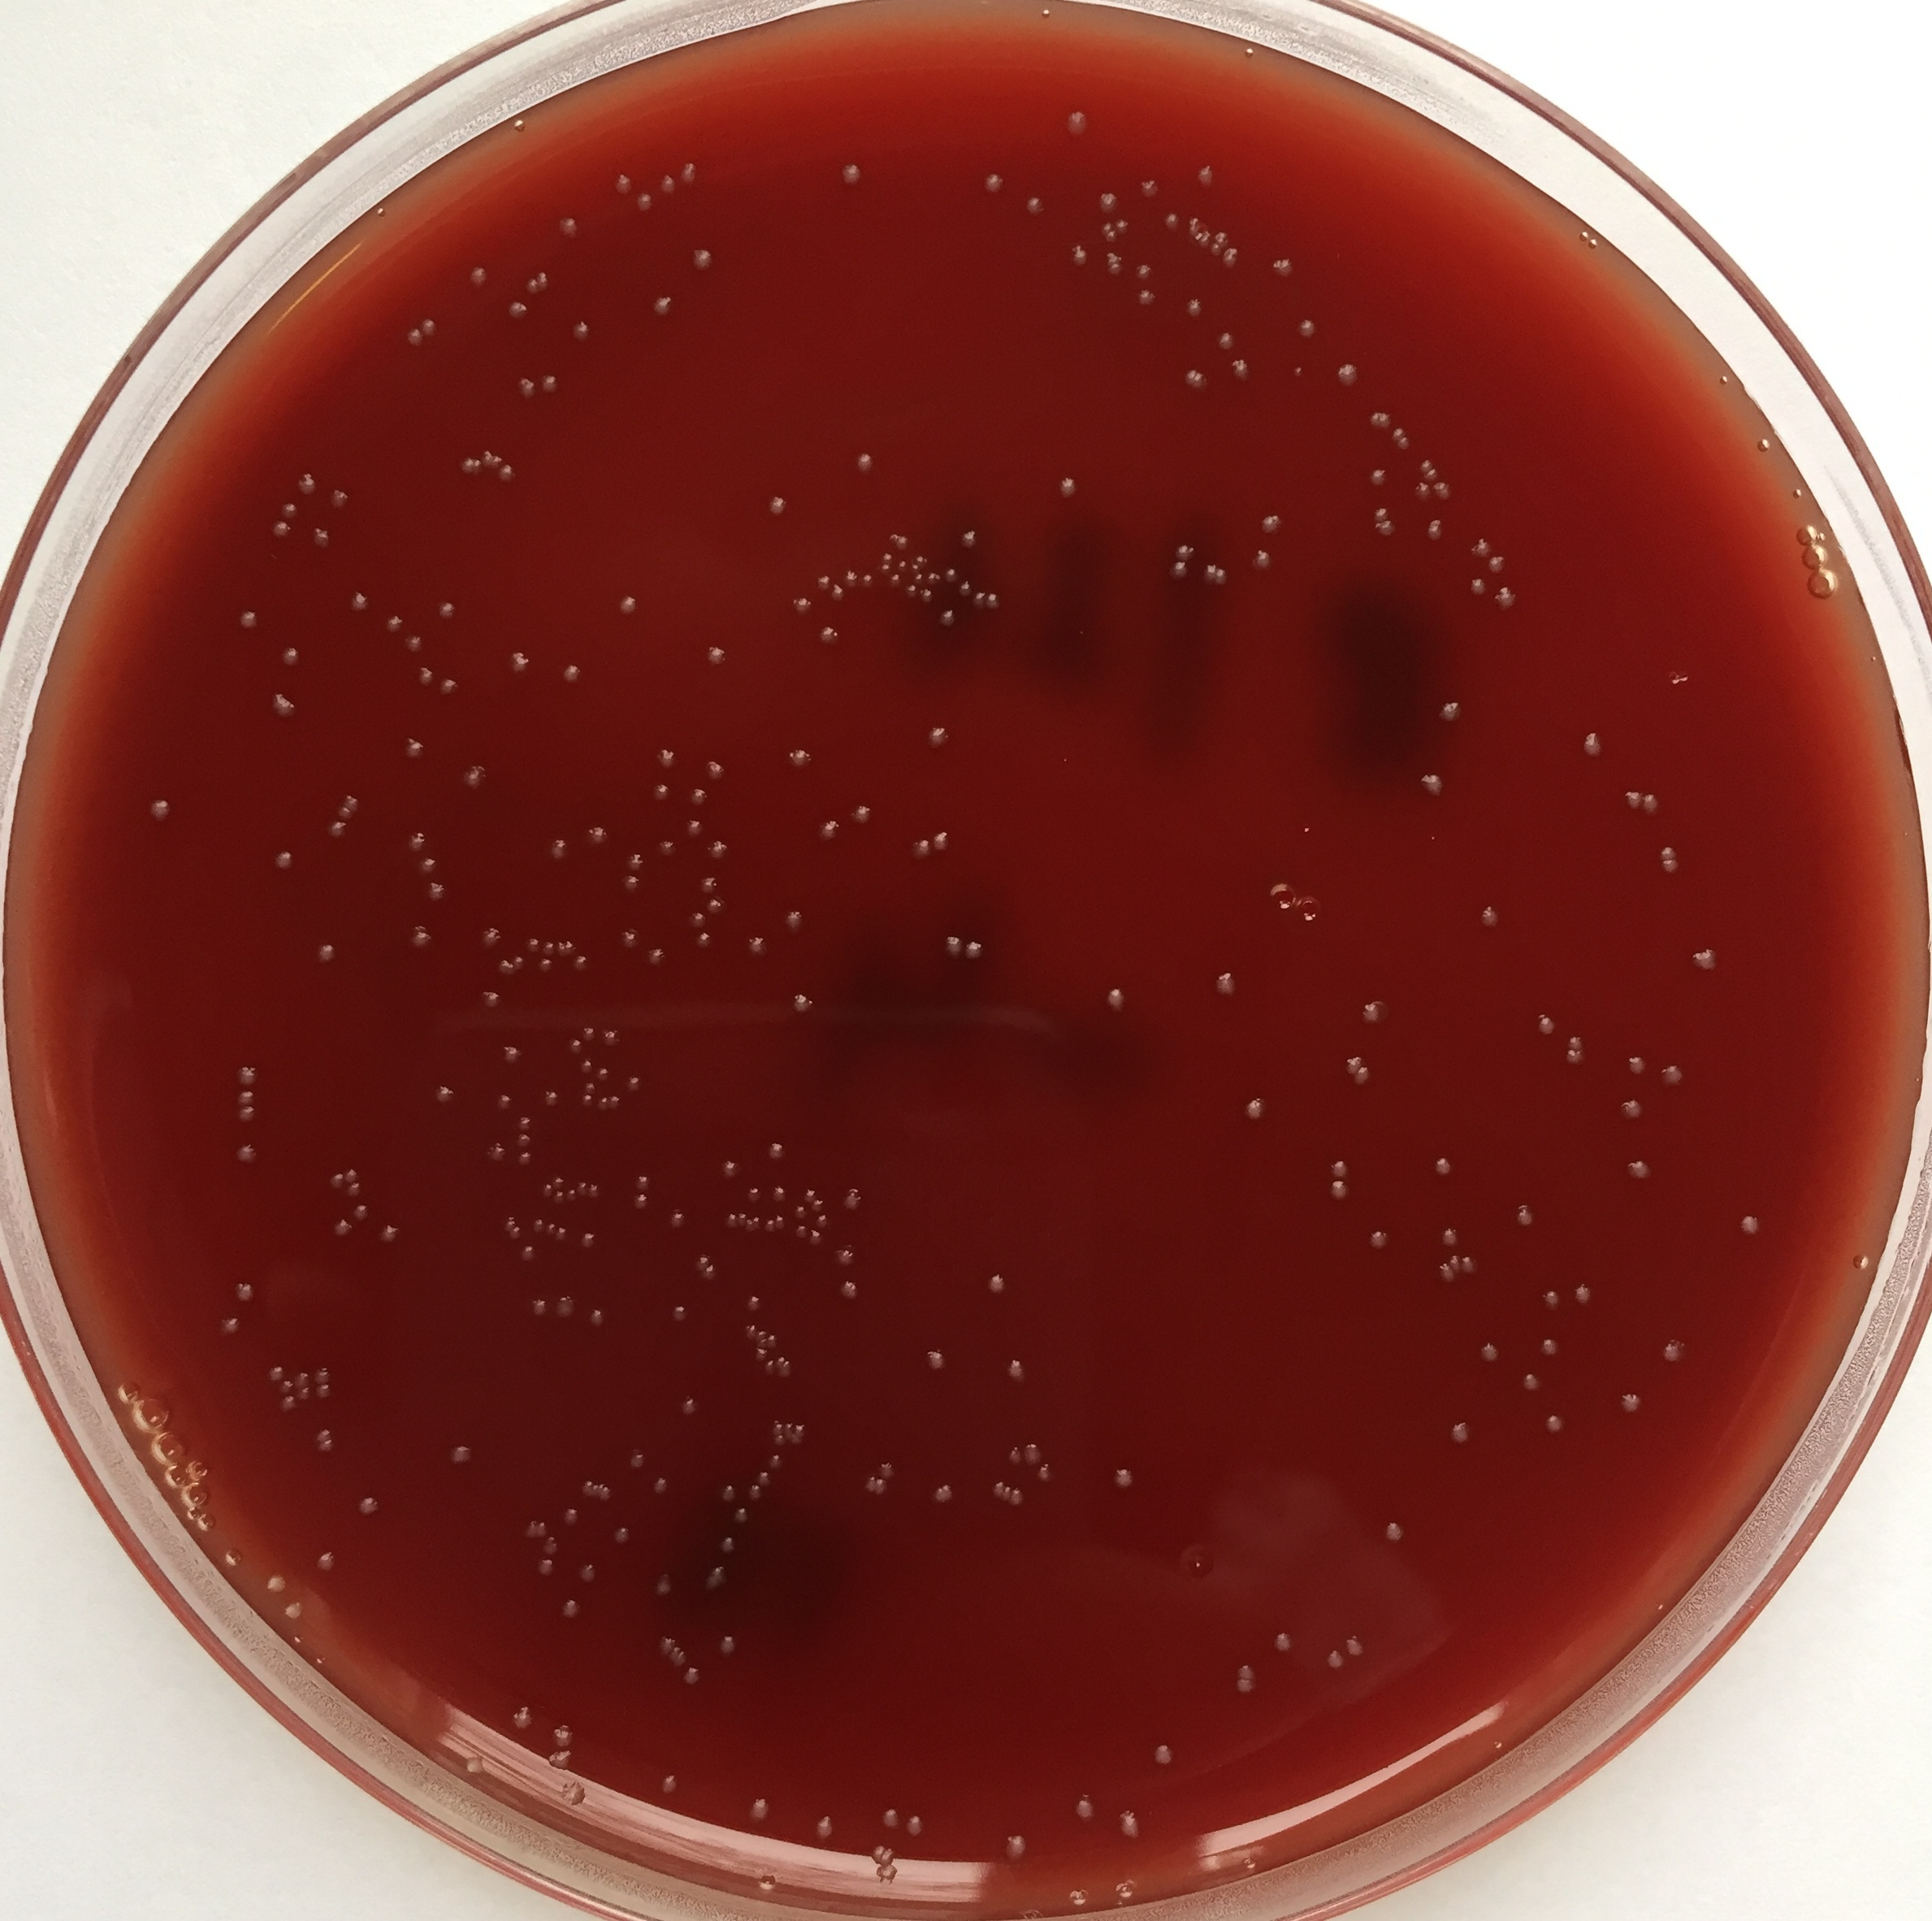sp23: (825, 144, 871, 201), (1052, 90, 1096, 146), (1006, 181, 1056, 229), (975, 1258, 1012, 1311), (845, 435, 887, 480), (1431, 688, 1469, 737), (1047, 459, 1086, 508), (922, 716, 961, 765), (1686, 939, 1726, 983), (139, 783, 178, 829), (635, 287, 676, 329), (505, 644, 542, 688), (1240, 1080, 1274, 1128), (1471, 894, 1513, 929), (1658, 1332, 1694, 1370), (778, 739, 815, 778), (968, 160, 1003, 201), (1570, 728, 1614, 760), (475, 982, 512, 1019), (579, 813, 618, 848), (765, 480, 797, 522), (405, 920, 440, 957), (1357, 992, 1390, 1031), (431, 591, 465, 630), (461, 748, 489, 793), (1191, 151, 1223, 192), (262, 677, 292, 719), (614, 588, 646, 626), (473, 915, 505, 953), (1543, 1409, 1571, 1451), (1116, 1801, 1144, 1844), (690, 246, 725, 280), (1101, 1458, 1135, 1494), (1624, 1149, 1656, 1186), (278, 633, 310, 670), (915, 1346, 952, 1377), (938, 922, 964, 966), (419, 876, 457, 906), (700, 632, 728, 672), (313, 938, 347, 971), (1411, 767, 1446, 799), (1096, 978, 1128, 1013), (1418, 510, 1450, 545), (398, 737, 433, 769), (811, 1812, 843, 1847), (1357, 1221, 1395, 1249), (1490, 581, 1522, 614), (232, 603, 264, 637), (396, 818, 428, 851), (445, 1439, 477, 1472), (554, 1779, 588, 1810), (1443, 1409, 1471, 1446), (1267, 250, 1304, 278), (785, 990, 811, 1029), (998, 1831, 1036, 1858), (1255, 503, 1286, 535), (850, 795, 882, 827), (538, 362, 560, 410), (1425, 1145, 1459, 1175), (229, 1057, 262, 1087), (428, 1077, 456, 1112), (371, 1212, 398, 1249), (700, 1560, 727, 1597), (783, 899, 808, 938), (1659, 1057, 1689, 1089), (558, 1596, 589, 1625), (744, 1794, 774, 1826), (570, 318, 600, 350), (1212, 960, 1239, 996), (269, 843, 299, 873), (1381, 1516, 1411, 1546), (1737, 1205, 1765, 1237), (816, 814, 845, 846), (964, 927, 985, 969), (540, 830, 568, 862), (1070, 1793, 1098, 1824), (231, 1101, 264, 1128), (998, 1353, 1031, 1379), (554, 1289, 579, 1325), (1270, 1629, 1306, 1654), (1372, 501, 1395, 538), (1617, 1388, 1645, 1418), (419, 844, 447, 874), (461, 262, 489, 292), (1533, 1004, 1559, 1036), (231, 1281, 262, 1307), (579, 1476, 611, 1502), (545, 1750, 581, 1773), (1571, 1279, 1599, 1307), (669, 1302, 697, 1330), (1513, 1194, 1540, 1224), (815, 623, 845, 649), (561, 653, 588, 683), (313, 1548, 340, 1578), (679, 1391, 709, 1418), (649, 744, 679, 771), (1151, 1736, 1181, 1763), (1226, 354, 1253, 383), (1647, 858, 1687, 878), (229, 1142, 260, 1166), (313, 1425, 338, 1457), (357, 1486, 382, 1518), (507, 1694, 531, 1726), (660, 1766, 684, 1798), (702, 755, 734, 779), (514, 369, 535, 406), (1334, 359, 1365, 383), (1538, 1333, 1564, 1362), (213, 1311, 239, 1339), (498, 1047, 524, 1075), (517, 1511, 545, 1538), (684, 785, 713, 811), (1520, 1367, 1545, 1397), (322, 822, 352, 846), (1186, 216, 1211, 246), (1621, 1047, 1643, 1078), (1212, 561, 1235, 593), (720, 1629, 743, 1661), (677, 150, 697, 186), (1619, 1094, 1645, 1121), (1367, 459, 1394, 486), (260, 1567, 287, 1594), (602, 1026, 628, 1052), (871, 1840, 897, 1866), (739, 929, 764, 957), (459, 1749, 484, 1777), (1478, 1335, 1501, 1365), (1253, 545, 1274, 577), (322, 1161, 343, 1193), (982, 588, 1003, 619), (1351, 1064, 1378, 1089), (1327, 1150, 1353, 1175), (1464, 573, 1489, 600), (788, 593, 813, 619), (586, 1304, 609, 1332), (764, 1135, 787, 1163), (294, 470, 317, 498), (558, 213, 581, 241), (1133, 174, 1161, 197), (1297, 317, 1325, 340), (655, 1564, 676, 1594), (486, 1138, 507, 1168), (1624, 781, 1643, 813), (628, 1439, 648, 1471), (1327, 1643, 1346, 1675), (1536, 1286, 1561, 1311), (616, 927, 640, 952), (1431, 480, 1455, 505), (282, 1599, 308, 1622), (716, 1158, 739, 1184), (841, 1186, 864, 1212), (959, 524, 982, 551), (1212, 327, 1235, 354), (1179, 368, 1205, 391), (1432, 1223, 1460, 1244), (327, 1217, 355, 1238), (547, 1722, 575, 1743), (326, 484, 347, 512), (904, 1810, 926, 1838), (882, 1803, 903, 1831), (1645, 783, 1663, 816), (660, 171, 679, 201), (1656, 837, 1680, 860), (528, 1296, 551, 1321), (683, 816, 707, 839), (1344, 1634, 1367, 1659), (933, 822, 950, 853), (911, 834, 933, 860), (231, 1087, 262, 1105), (350, 1196, 368, 1228), (931, 1478, 952, 1504), (1024, 1434, 1042, 1465), (1232, 1678, 1258, 1699), (1098, 253, 1124, 274), (1469, 531, 1489, 559), (271, 521, 294, 544), (665, 1205, 686, 1230), (836, 1240, 857, 1265), (385, 609, 406, 633), (706, 834, 730, 855), (697, 873, 721, 894), (308, 524, 329, 549), (635, 192, 656, 216), (1462, 1251, 1482, 1277), (577, 1557, 596, 1583), (625, 848, 644, 874), (653, 837, 679, 857), (859, 566, 878, 593), (1364, 408, 1390, 427), (1223, 248, 1242, 274), (421, 315, 438, 343), (1070, 239, 1087, 267), (1167, 563, 1189, 584), (1487, 549, 1510, 570), (315, 1383, 336, 1406), (516, 1244, 537, 1267), (836, 1281, 859, 1302), (436, 676, 457, 698), (403, 633, 426, 654), (621, 874, 642, 897), (509, 301, 530, 324), (1098, 185, 1119, 208), (1182, 296, 1204, 318), (1288, 359, 1309, 382), (1446, 1254, 1466, 1279), (648, 946, 672, 966), (415, 665, 435, 690), (561, 1501, 577, 1530), (1434, 1260, 1452, 1286), (614, 169, 632, 195), (1005, 1441, 1022, 1467), (683, 1666, 699, 1694), (688, 906, 709, 927), (873, 1478, 889, 1506), (1008, 1483, 1024, 1511), (1328, 1182, 1351, 1202), (348, 589, 371, 609), (540, 1536, 563, 1555), (706, 895, 725, 918), (938, 605, 957, 628), (1200, 558, 1218, 582), (278, 1390, 296, 1414), (405, 322, 422, 347), (653, 1471, 669, 1497), (500, 461, 516, 487), (1233, 1662, 1260, 1678), (1339, 1050, 1360, 1070), (343, 783, 362, 804), (313, 1362, 333, 1383), (669, 1643, 690, 1662), (875, 1457, 894, 1478), (1135, 260, 1154, 281), (1137, 290, 1158, 310), (1175, 538, 1193, 561), (264, 1360, 282, 1383), (957, 575, 975, 598), (1411, 480, 1429, 503), (1035, 1458, 1050, 1483), (1564, 1027, 1584, 1047), (695, 931, 714, 950), (614, 1522, 628, 1548), (732, 1506, 750, 1527), (531, 1212, 545, 1238), (577, 1228, 595, 1249), (743, 1182, 760, 1203), (567, 1033, 584, 1054), (630, 1071, 644, 1098), (482, 449, 500, 470), (542, 1085, 558, 1108), (887, 533, 910, 549), (1165, 209, 1181, 232), (971, 588, 985, 612), (1564, 1045, 1584, 1063), (533, 1560, 553, 1578), (767, 1453, 785, 1472), (341, 1165, 361, 1182), (746, 1293, 764, 1312), (538, 960, 558, 978), (1212, 227, 1230, 246), (294, 1367, 310, 1388), (720, 1479, 735, 1501), (514, 1131, 535, 1147), (584, 1020, 600, 1041), (831, 584, 846, 605), (278, 501, 299, 517), (538, 267, 551, 294), (757, 1465, 771, 1488), (772, 1179, 787, 1202), (815, 568, 829, 591), (514, 1110, 531, 1128), (514, 1149, 531, 1166), (630, 1191, 648, 1209), (918, 588, 936, 605), (1114, 215, 1131, 232), (331, 804, 352, 818), (762, 1356, 776, 1377), (542, 934, 556, 955), (1422, 468, 1443, 482), (345, 1182, 368, 1194), (459, 454, 472, 477), (278, 1377, 294, 1395), (721, 1536, 737, 1553), (507, 1224, 523, 1242), (558, 1221, 574, 1238), (494, 957, 512, 973), (596, 1064, 612, 1082), (655, 783, 670, 800), (470, 454, 480, 480), (521, 274, 537, 292), (904, 558, 922, 573), (496, 1091, 510, 1110), (595, 1096, 609, 1115), (579, 1057, 595, 1073), (635, 1173, 653, 1187), (574, 952, 588, 969), (943, 563, 957, 581), (1395, 435, 1413, 449), (1205, 243, 1219, 260), (992, 1476, 1003, 1499), (656, 1632, 669, 1652), (748, 1481, 760, 1501), (723, 1209, 735, 1228), (609, 1091, 621, 1110), (501, 1212, 516, 1228), (811, 1194, 825, 1210), (693, 1253, 707, 1268), (702, 1265, 718, 1279), (862, 1472, 873, 1494), (524, 936, 538, 952), (876, 563, 892, 577), (889, 573, 904, 588), (903, 581, 917, 596), (787, 1430, 804, 1443), (553, 1189, 565, 1207), (553, 1172, 565, 1189), (734, 1212, 746, 1230), (809, 1228, 822, 1245), (1001, 1483, 1010, 1508), (876, 549, 894, 561), (783, 1358, 794, 1377), (846, 565, 855, 588), (297, 1388, 311, 1402), (757, 1333, 771, 1348), (926, 568, 940, 582), (1103, 229, 1117, 243), (545, 1219, 558, 1235), (577, 1179, 589, 1194), (804, 1184, 816, 1200), (892, 558, 908, 570), (1392, 426, 1408, 438), (589, 1180, 600, 1198), (568, 1184, 577, 1205), (748, 1348, 765, 1358), (776, 1355, 785, 1376), (818, 1212, 829, 1230), (771, 1420, 783, 1434), (743, 1323, 755, 1337), (794, 1224, 808, 1237), (563, 938, 575, 952), (582, 1080, 596, 1092), (1100, 216, 1112, 230), (1420, 457, 1434, 470), (542, 1180, 553, 1196), (512, 955, 523, 971), (783, 1420, 795, 1432), (794, 1205, 806, 1217), (581, 1094, 593, 1107), (917, 551, 929, 563), (792, 1420, 806, 1430), (765, 1217, 776, 1231), (558, 938, 565, 957), (769, 1332, 779, 1344), (753, 1216, 764, 1228), (913, 572, 926, 582), (776, 1214, 785, 1228), (774, 1430, 785, 1441), (757, 1326, 767, 1337), (746, 1217, 753, 1230)
